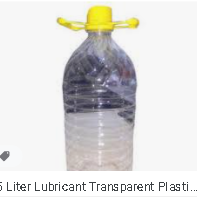Bottle: (64, 7, 134, 171)
